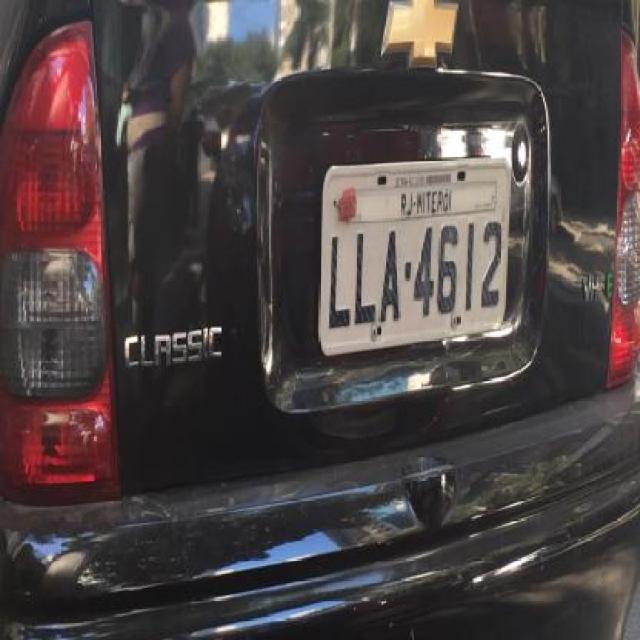old_plate: (308, 148, 520, 368)
